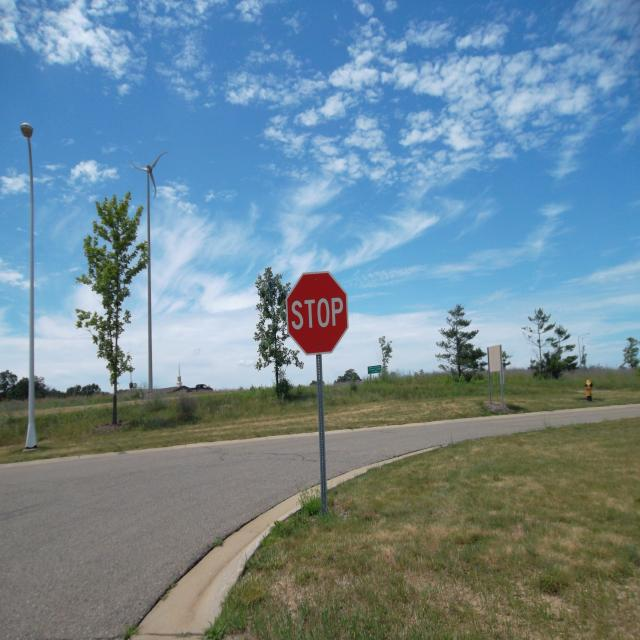stop: (283, 266, 353, 358)
